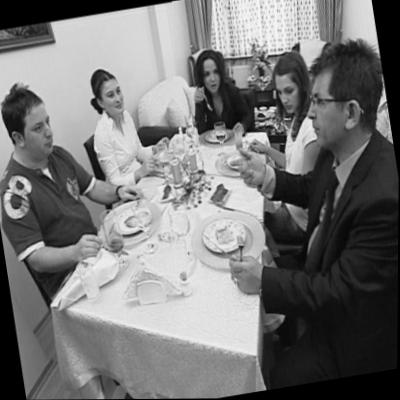netural: (303, 73, 349, 148), (22, 102, 57, 156), (101, 78, 128, 118)
sad: (272, 70, 302, 116)
surprise: (199, 58, 225, 95)
